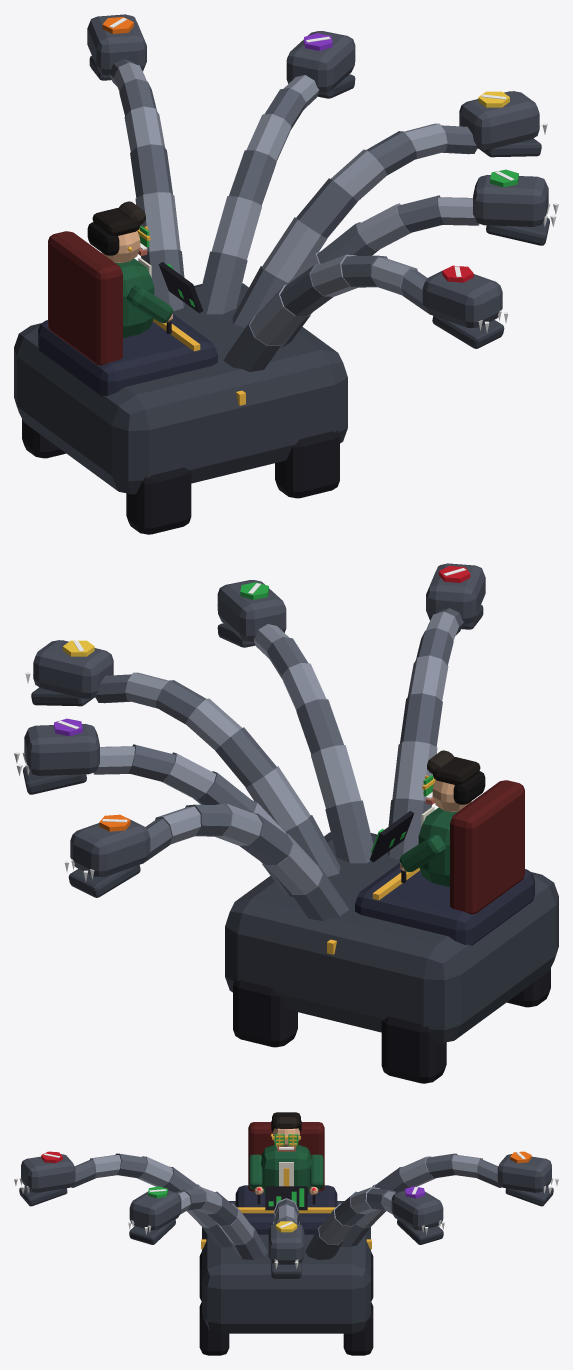
File: egboehly.glb
The picture shows the model from 3 angles, top to bottom: view 1: azimuth 30°, elevation 25°; view 2: azimuth 150°, elevation 25°; view 3: azimuth 270°, elevation 25°; orthographic projection. The views are drawn at different scales.
Visible parts, largest first — view 1: p_rbox.911, p_rbox.927, p_rbox.926, p_rbox.912, p_rbox.916, p_rbox.914, p_rbox.918, p_rbox.920, p_rbox.922, p_rbox.924, p_cyl.656, p_cyl.657 (+36 smaller); view 2: p_rbox.911, p_rbox.927, p_rbox.926, p_rbox.913, p_rbox.924, p_rbox.915, p_rbox.922, p_rbox.920, p_rbox.918, p_rbox.916, p_cyl.641, p_cyl.642 (+36 smaller); view 3: p_rbox.911, p_rbox.926, p_rbox.927, p_rbox.916, p_rbox.924, p_rbox.928, p_rbox.918, p_rbox.922, p_rbox.920, p_rbox.914, p_rbox.915, p_box.3940 (+30 smaller).
Boxes of the visible parts, x1,y1,x2,y2 form: p_rbox.911: (14,283,347,494); p_rbox.927: (48,231,122,365); p_rbox.926: (38,314,217,396); p_rbox.912: (126,467,191,534); p_rbox.916: (422,269,502,328); p_rbox.914: (275,430,339,498); p_rbox.918: (473,175,548,226); p_rbox.920: (459,91,539,149); p_rbox.922: (286,31,355,92); p_rbox.924: (87,14,146,75); p_cyl.656: (199,251,247,314); p_cyl.657: (211,196,261,259); p_rbox.911: (225,832,558,1043); p_rbox.927: (450,780,524,914); p_rbox.926: (355,863,534,945); p_rbox.913: (381,1016,446,1083); p_rbox.924: (70,818,150,877); p_rbox.915: (233,979,297,1047); p_rbox.922: (24,724,99,775); p_rbox.920: (33,640,113,698); p_rbox.918: (217,580,286,641); p_rbox.916: (426,563,485,624); p_cyl.641: (325,800,373,863); p_cyl.642: (311,745,361,808); p_rbox.911: (202,1201,370,1333); p_rbox.926: (235,1185,337,1234); p_rbox.927: (248,1122,324,1191); p_rbox.916: (21,1154,75,1192); p_rbox.924: (497,1154,551,1192); p_rbox.928: (261,1145,311,1194); p_rbox.918: (129,1190,181,1230); p_rbox.922: (391,1190,443,1230); p_rbox.920: (268,1223,304,1264); p_rbox.914: (199,1302,229,1355); p_rbox.915: (343,1302,373,1355); p_box.3940: (265,1186,307,1210).
Bounding box in the file's own units: 4.49 × 2.76 × 6.44.
